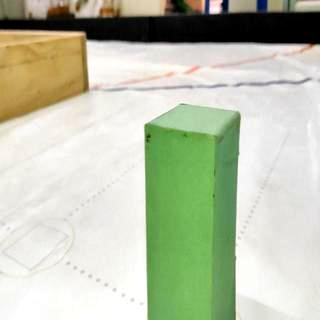greenbox: (143, 101, 241, 320)
